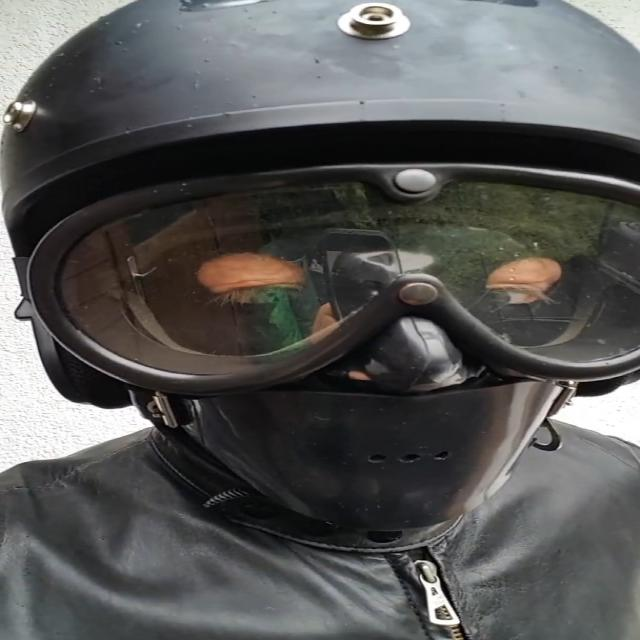Helmet_Wearer: (0, 0, 640, 551)
Jacket_Wearer: (5, 373, 640, 640)
Person: (0, 0, 640, 640)
